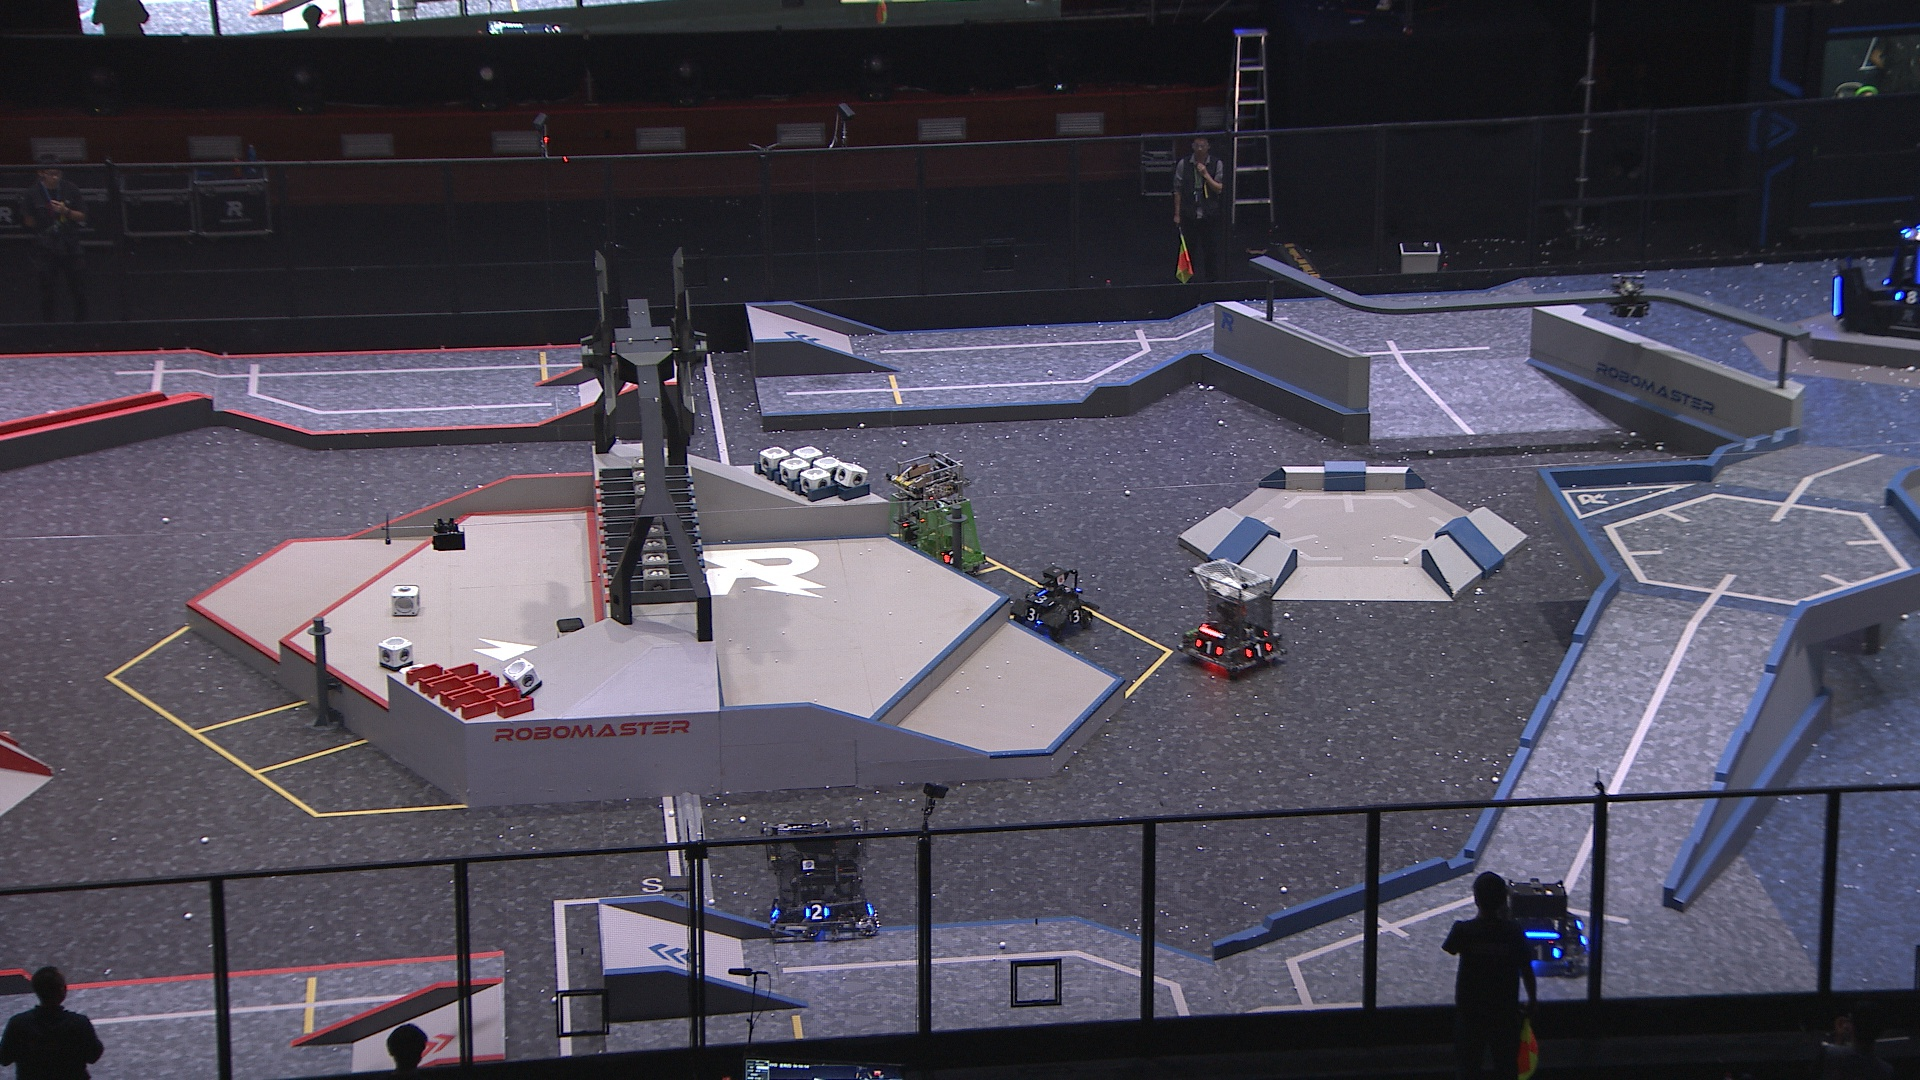armor: (1528, 942, 1563, 963), (1192, 637, 1225, 657), (1242, 640, 1275, 659), (1025, 589, 1058, 608), (1832, 273, 1845, 318), (1615, 302, 1647, 319), (803, 903, 832, 922), (1894, 289, 1920, 306), (1065, 608, 1087, 624), (1022, 607, 1040, 622)
base: (1830, 219, 1920, 344)
car: (760, 816, 882, 940), (1172, 556, 1291, 675), (880, 451, 988, 578), (1484, 873, 1594, 977), (1007, 564, 1098, 644)
watcher: (1604, 272, 1654, 322)
